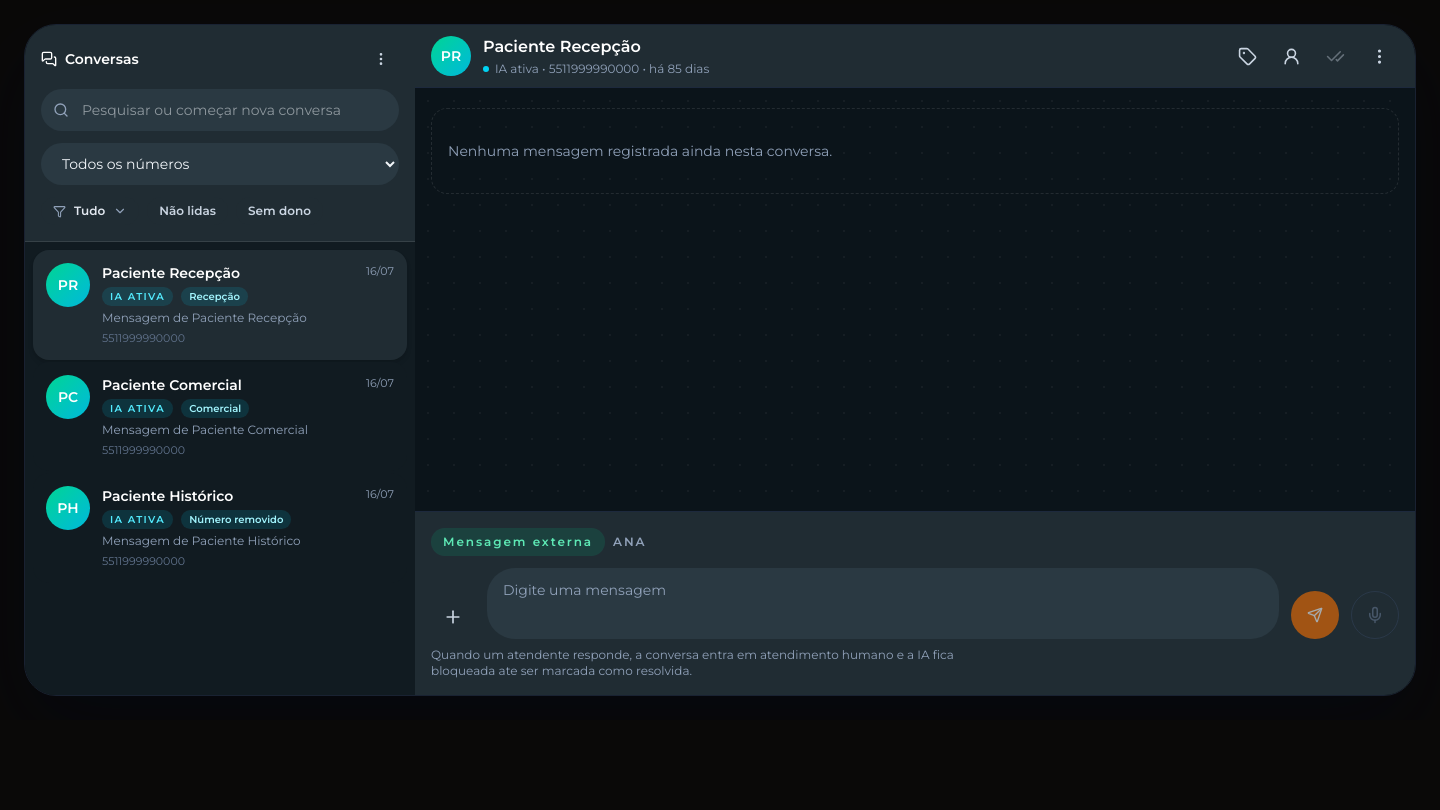
Test case: TenantConversationsPage — caixa unificada › mostra todos os números, identifica a origem e filtra sem reutilizar o pareamento
Expected: the text "Número removido" is shown, [181,510,291,529]
Select "Comercial" in the dropdown named "Número do WhatsApp" at [220, 164], box [41,143,399,185]
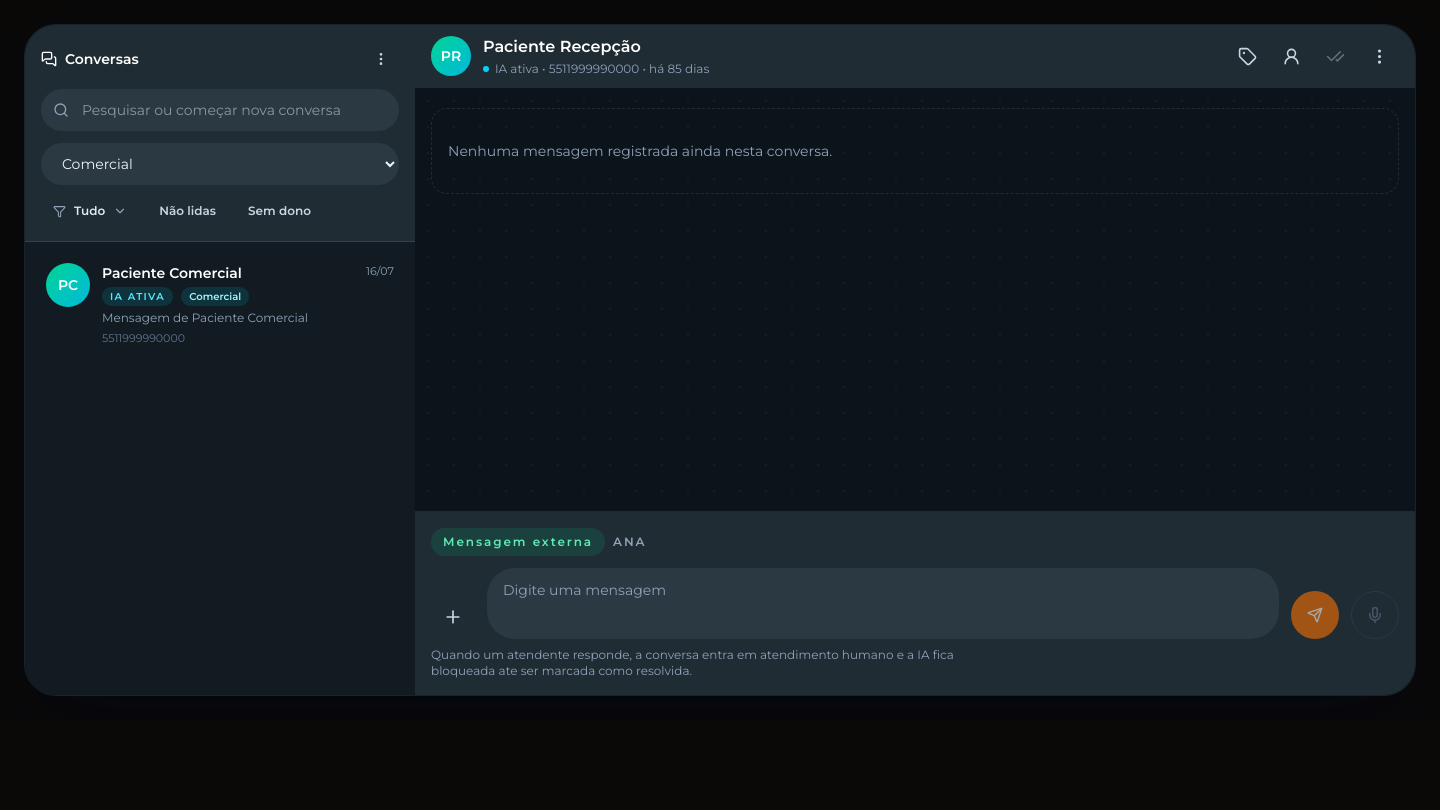
Expected: the button "Paciente Comercial" is shown, [33,250,407,360]
Expected: the button "Paciente Histórico" is gone
